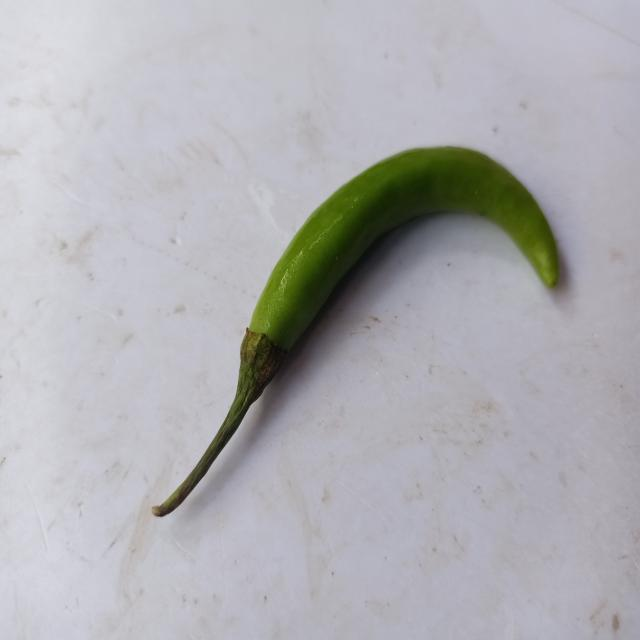Green Chilly: (152, 146, 560, 517)
